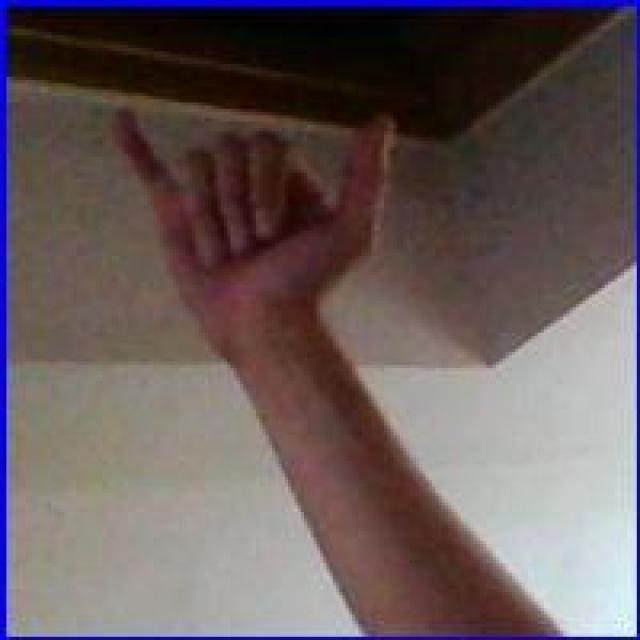Y: (105, 88, 394, 312)
